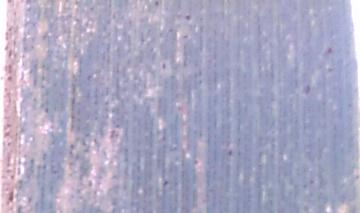tarspot: (302, 84, 312, 96), (180, 32, 191, 40), (193, 159, 201, 167), (161, 62, 168, 71), (185, 13, 191, 23), (162, 180, 170, 187), (327, 46, 334, 54), (153, 1, 161, 7), (228, 149, 233, 156)
